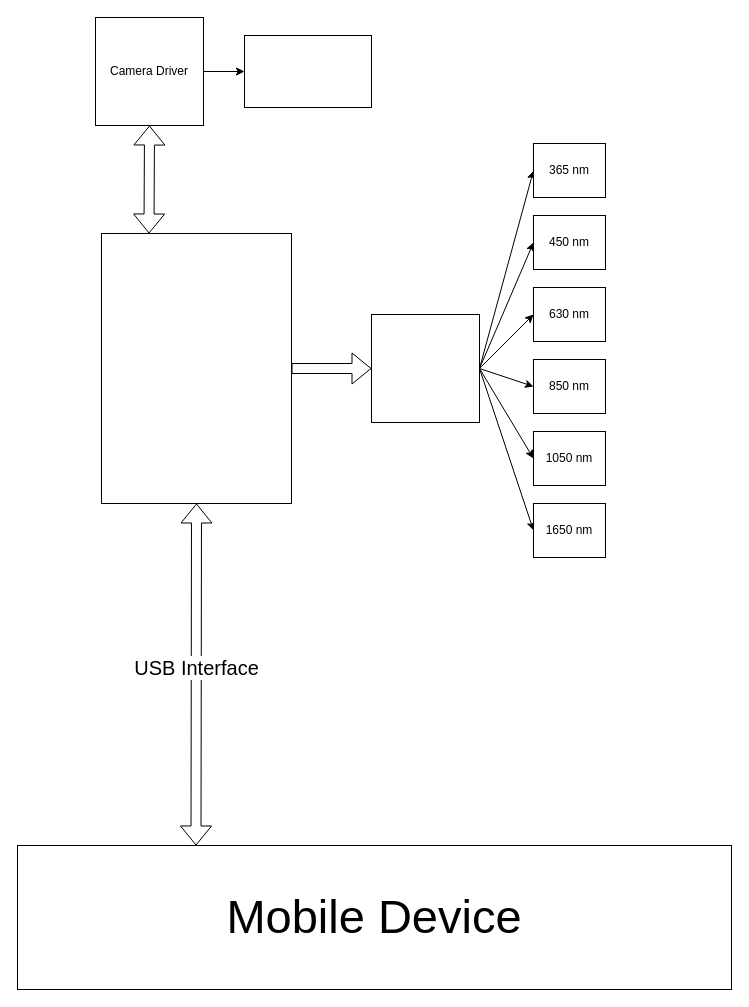
Image size: 749x1007. Some labels were removed from this diagram. Each missing label, with the box of its shape:
Camera: (244, 34, 372, 108)
led driver: (370, 314, 480, 422)
Raspberry Pi 4: (100, 232, 292, 504)
